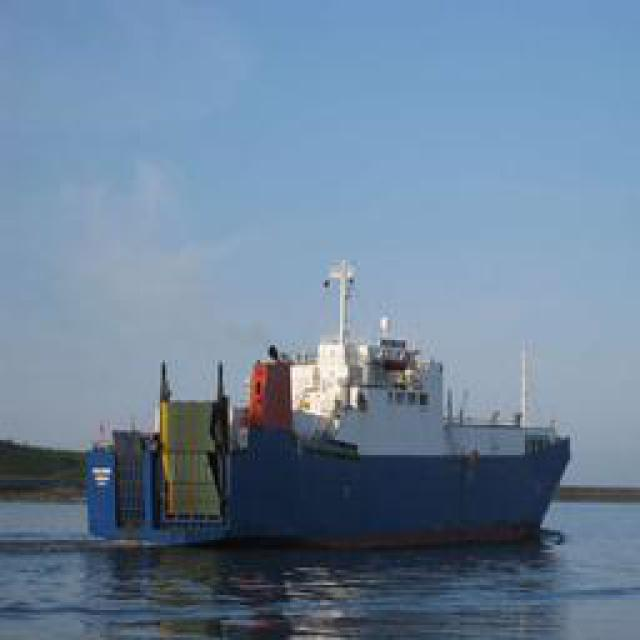Ship: (155, 256, 573, 549)
